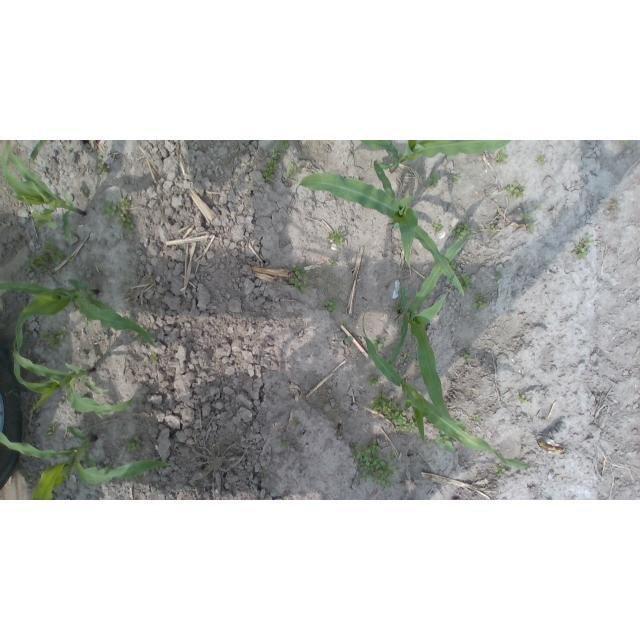Maize: (359, 310, 534, 468), (297, 159, 466, 297), (386, 231, 479, 426), (0, 424, 172, 499), (0, 279, 158, 357), (6, 341, 137, 419), (0, 140, 84, 245), (360, 140, 512, 170), (28, 140, 87, 164)
Weeds: (351, 438, 397, 488), (372, 392, 409, 431), (25, 240, 66, 275), (40, 325, 70, 349), (287, 264, 309, 293), (117, 199, 135, 232), (573, 235, 595, 260), (435, 428, 454, 452), (450, 220, 472, 240), (261, 159, 278, 181), (506, 181, 525, 199), (327, 228, 343, 246), (95, 155, 110, 174), (103, 199, 118, 218), (286, 160, 301, 179), (458, 273, 472, 293), (471, 295, 489, 310), (427, 171, 442, 189), (127, 435, 142, 451), (495, 147, 508, 165), (408, 415, 420, 434), (462, 348, 475, 364), (366, 375, 380, 388), (372, 338, 384, 353), (270, 149, 285, 161), (325, 299, 338, 312), (494, 464, 506, 477), (46, 423, 57, 437), (536, 152, 546, 165), (327, 257, 338, 268), (278, 436, 288, 448), (277, 140, 292, 148), (392, 300, 402, 312), (517, 394, 527, 405), (432, 221, 443, 231), (528, 222, 537, 234), (521, 212, 534, 220), (341, 334, 354, 342), (452, 173, 462, 183), (449, 260, 457, 271), (405, 352, 412, 363), (84, 316, 92, 325), (149, 352, 157, 361), (488, 225, 497, 232), (472, 415, 481, 422), (495, 270, 502, 278), (535, 202, 542, 210), (67, 254, 73, 262), (620, 141, 629, 146), (293, 421, 300, 426), (341, 322, 348, 327), (26, 475, 31, 481), (260, 474, 264, 480)
